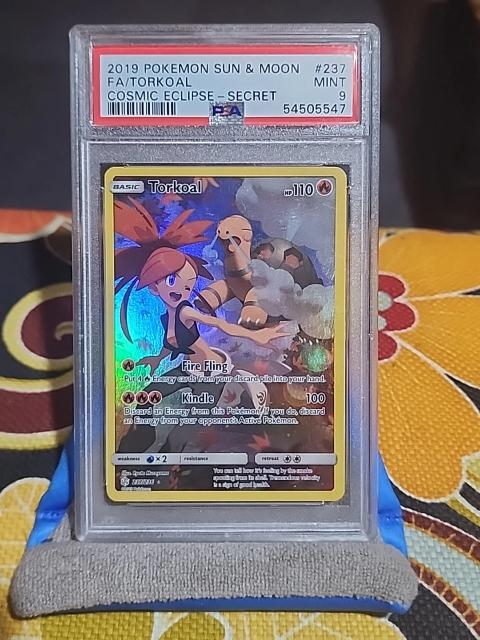Card: (101, 162, 351, 506)
Name: (145, 175, 208, 197)
